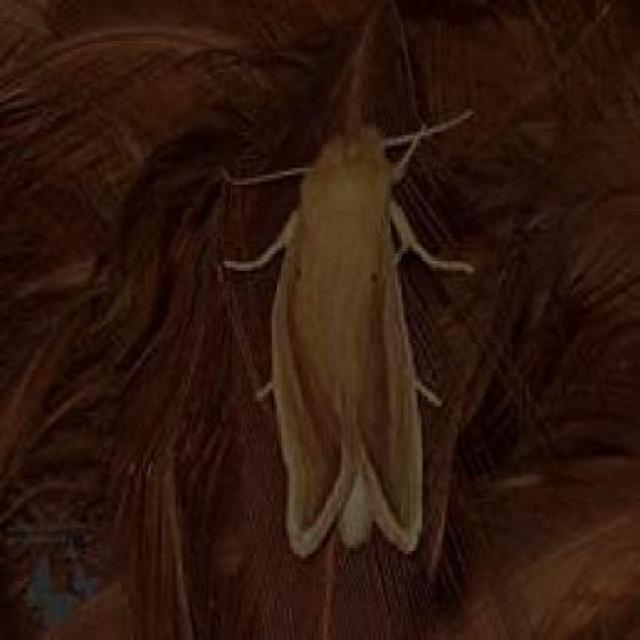stem-borer: (257, 116, 435, 573)
